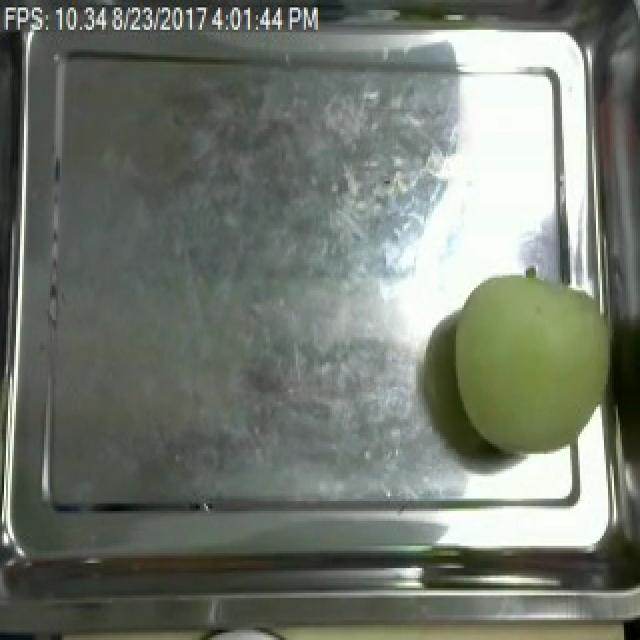50-_ripeness: (448, 257, 619, 464)
